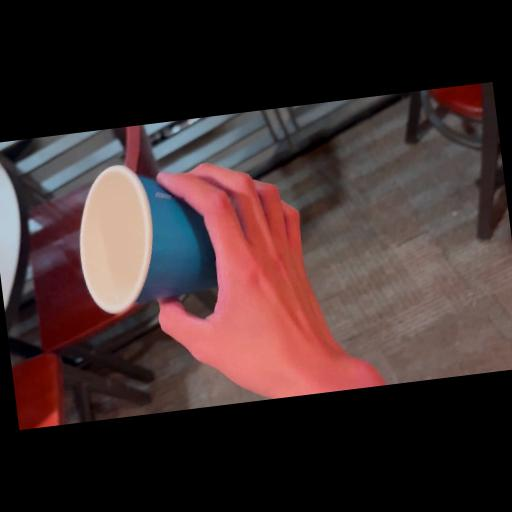lp_paper_cup: (67, 152, 224, 316)
